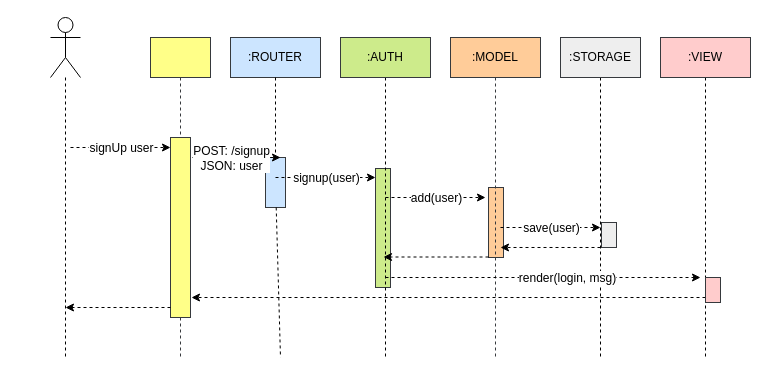
This 768x376 diagram has some shape labels left out. Each missing label, with the box of its shape:
:UI: (150, 36, 210, 78)
Dueño de negocio: (50, 16, 80, 78)
